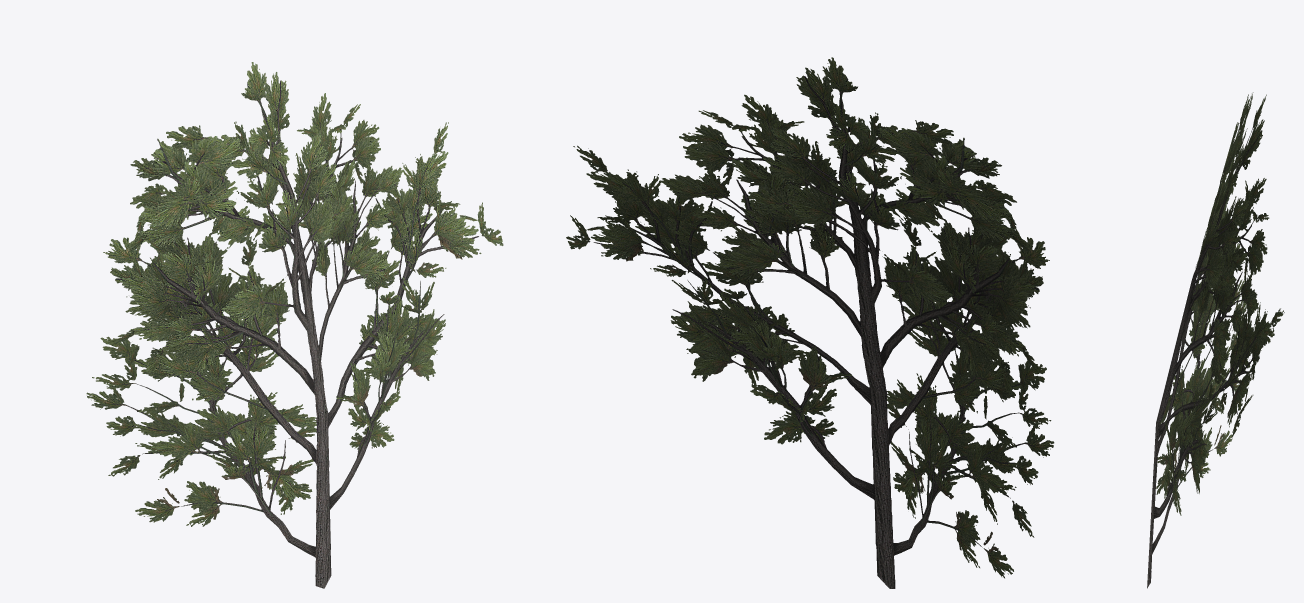
File: branch_v2.fbx
3 renders of one model, left to right at view 1: azimuth 30°, elevation 25°; view 2: azimuth 150°, elevation 25°; view 3: azimuth 270°, elevation 25°, orthographic. The views are drawn at different scales.
Parts seen in each view (by area): view 1: Polygon; view 2: Polygon; view 3: Polygon.
Part boxes in pixels (x1,y1,x2,y2): Polygon: [86, 62, 503, 588]; Polygon: [566, 57, 1054, 588]; Polygon: [1147, 92, 1284, 588].
Bounding box in the file's own units: 189 × 200 × 49.05.
Materials: 1 (1 with a texture image).
